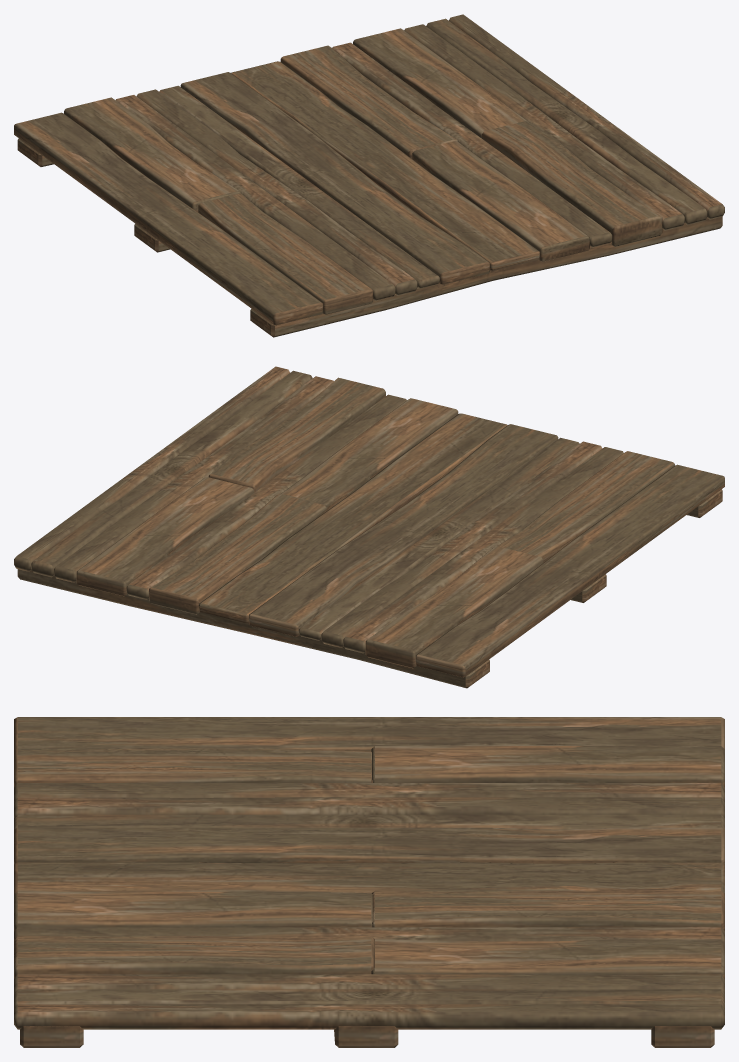
Rendered from SM_floor_01.fbx.
3 renders of one model, top to bottom at view 1: azimuth 30°, elevation 25°; view 2: azimuth 150°, elevation 25°; view 3: azimuth 270°, elevation 25°, orthographic. The views are drawn at different scales.
Visible parts, largest first — view 1: SM_floor_01_LOD0; view 2: SM_floor_01_LOD0; view 3: SM_floor_01_LOD0.
Boxes of the visible parts, bbox=[...] form: SM_floor_01_LOD0: bbox=[14, 14, 724, 337]; SM_floor_01_LOD0: bbox=[14, 366, 724, 688]; SM_floor_01_LOD0: bbox=[14, 717, 724, 1047].
Bounding box in the file's own units: 400 × 402 × 25.43.
Materials: 1 (1 with a texture image).
